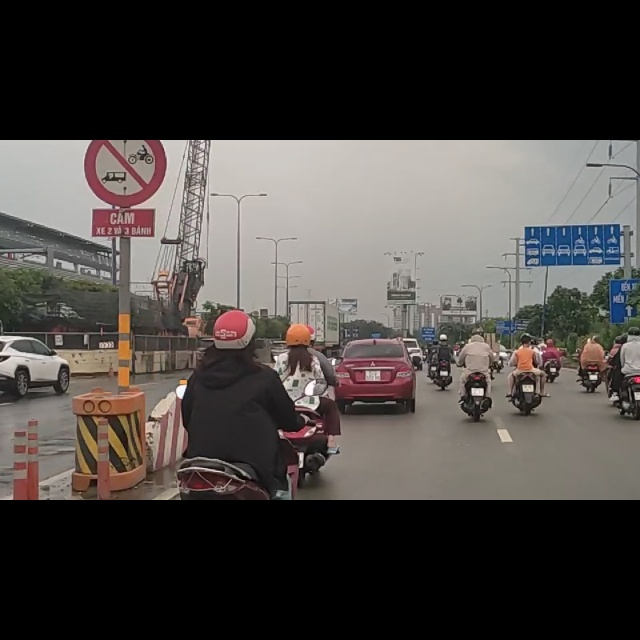bien_chi_dan: (84, 1, 165, 116)
